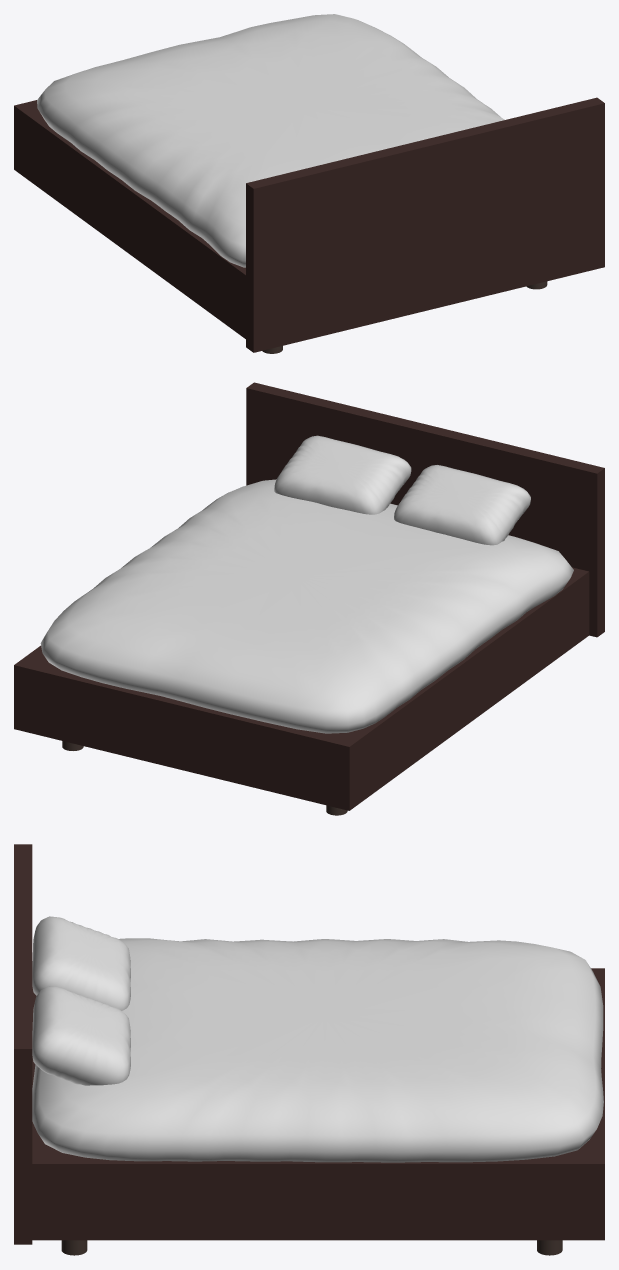
File: Lit2_5.fbx
3 renders of one model, top to bottom at view 1: azimuth 30°, elevation 25°; view 2: azimuth 150°, elevation 25°; view 3: azimuth 270°, elevation 25°, orthographic. The views are drawn at different scales.
Visible parts, largest first — view 1: pCube2137, pCylinder1514, pCube2136; view 2: pCylinder1514, pCube2136, pCube2137, pCylinder1518, pCylinder1513; view 3: pCylinder1514, pCube2136, pCylinder1513, pCube2137, pCylinder1518, pCylinder1515.
Boxes of the visible parts, left/top/right/bottom form: pCube2137: left=246, top=97, right=604, bottom=352; pCylinder1514: left=37, top=14, right=504, bottom=267; pCube2136: left=14, top=100, right=245, bottom=338; pCylinder1514: left=40, top=479, right=573, bottom=733; pCube2136: left=14, top=567, right=589, bottom=810; pCube2137: left=246, top=382, right=604, bottom=637; pCylinder1518: left=394, top=465, right=530, bottom=545; pCylinder1513: left=274, top=435, right=411, bottom=514; pCylinder1514: left=32, top=938, right=603, bottom=1162; pCube2136: left=32, top=968, right=604, bottom=1240; pCylinder1513: left=32, top=986, right=130, bottom=1085; pCube2137: left=14, top=844, right=32, bottom=1244; pCylinder1518: left=32, top=916, right=130, bottom=1010; pCylinder1515: left=61, top=1240, right=562, bottom=1255.
Bounding box in the file's own units: 117 × 60.53 × 143.
